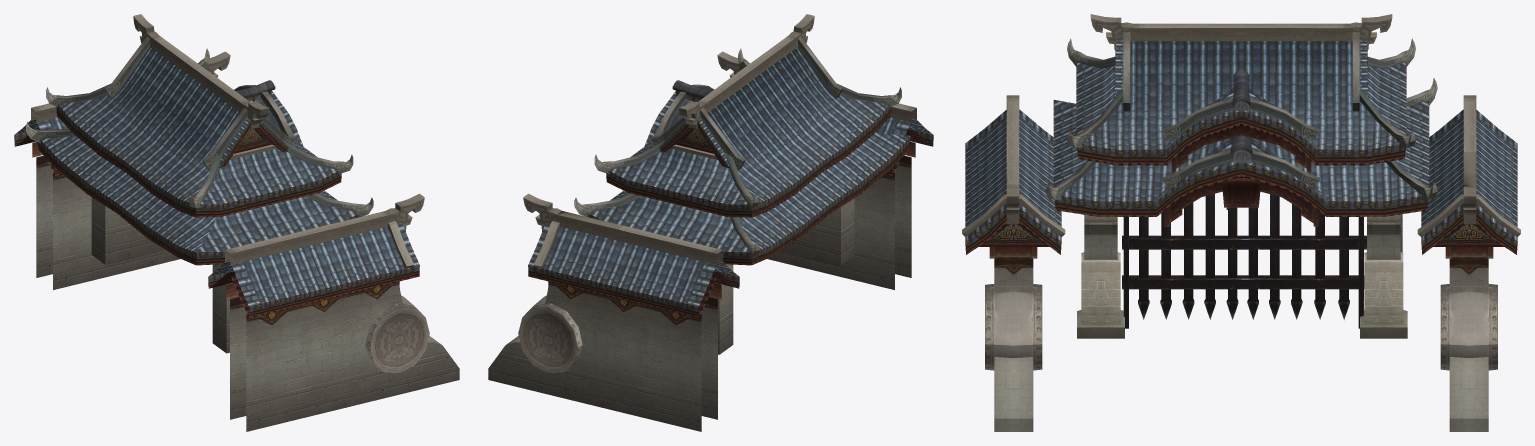
Rendered from zc_zhanchang001_chushengdian03_53_40_0988out.fbx.
The picture shows the model from 3 angles, left to right: view 1: azimuth 30°, elevation 25°; view 2: azimuth 150°, elevation 25°; view 3: azimuth 270°, elevation 25°; orthographic projection. The views are drawn at different scales.
Visible parts, largest first — view 1: 0000_zc_zhanchang001_chushengdian03, 0001_zc_zhanchang001_chushengdian03; view 2: 0000_zc_zhanchang001_chushengdian03, 0001_zc_zhanchang001_chushengdian03; view 3: 0001_zc_zhanchang001_chushengdian03, 0000_zc_zhanchang001_chushengdian03.
Part boxes in pixels (bbox=[...]): 0000_zc_zhanchang001_chushengdian03: bbox=[26, 14, 459, 431]; 0001_zc_zhanchang001_chushengdian03: bbox=[14, 47, 419, 317]; 0000_zc_zhanchang001_chushengdian03: bbox=[488, 14, 916, 431]; 0001_zc_zhanchang001_chushengdian03: bbox=[528, 47, 933, 317]; 0001_zc_zhanchang001_chushengdian03: bbox=[965, 40, 1517, 254]; 0000_zc_zhanchang001_chushengdian03: bbox=[962, 14, 1520, 431].
Bounding box in the file's own units: 9.58 × 10.3 × 15.91.
